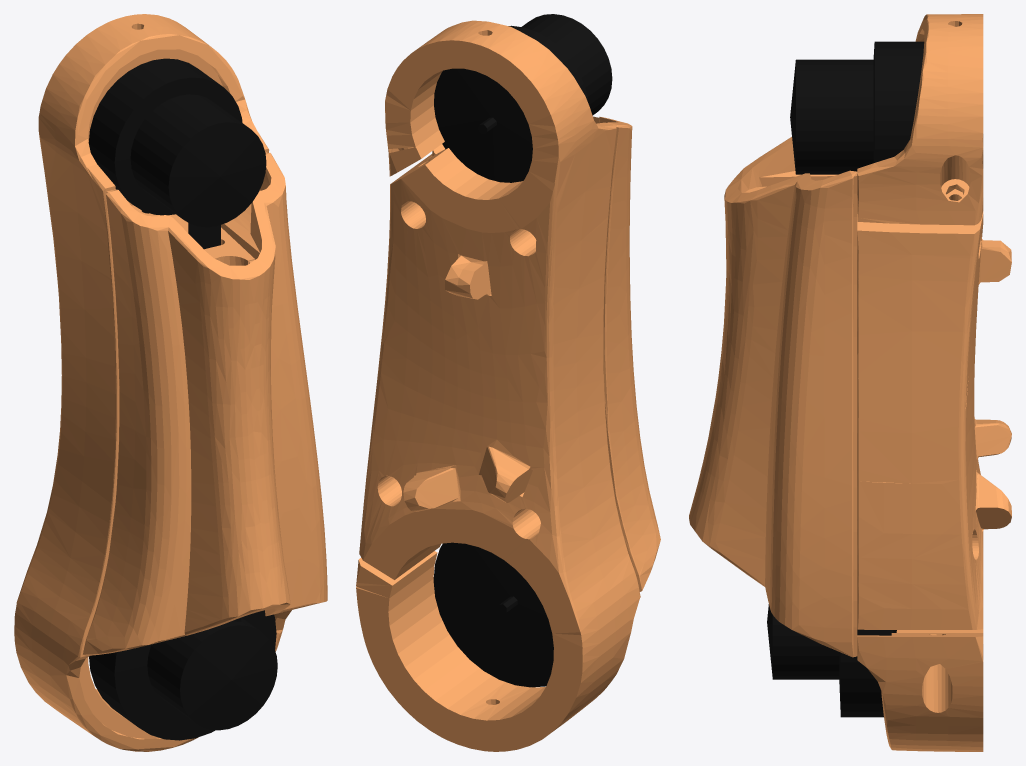
File: arm2.dae
The picture shows the model from 3 angles, left to right: view 1: azimuth 30°, elevation 25°; view 2: azimuth 150°, elevation 25°; view 3: azimuth 270°, elevation 25°; orthographic projection. The views are drawn at different scales.
Visible parts, largest first — view 1: arm2; view 2: arm2; view 3: arm2.
Part boxes in pixels (x1,y1,x2,y2): arm2: (14, 14, 327, 751); arm2: (356, 14, 660, 751); arm2: (689, 14, 1011, 751).
Size of the model in its own units: 0.0745 by 0.0899 by 0.22.
